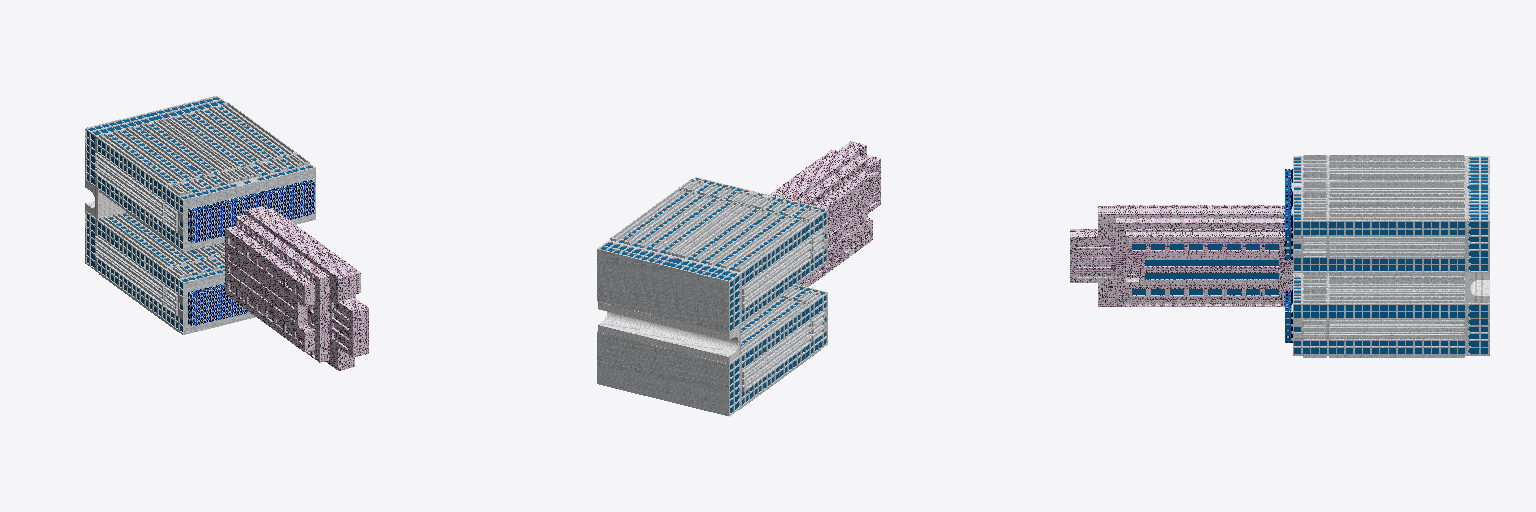
3 views of the same model, side by side, from view 1: azimuth 30°, elevation 25°; view 2: azimuth 150°, elevation 25°; view 3: azimuth 270°, elevation 25° (orthographic).
Parts seen in each view (by area): view 1: Tower_05, Walls_01_Walls_01_W, Walls_01, Rectangle1, Glass05_Gl, Rectangle0, Tower_Gla4, Glass06_Gl, Glass06, Gate; view 2: Walls_01_Walls_01_W, Walls_01, Tower_05, Gate, Glass05_Gl, Glass06, Glass06_Gl, Tower_Gla4; view 3: Tower_05, Walls_01_Walls_01_W, Walls_01, Glass07, Glass07_Gl, Tower_Glas, Fins03_F45, Fins03_F52, Glass05_Gl, Gate, Tower_Gla2, Fins03_F28 (+18 smaller).
Part boxes in pixels (x1,y1,x2,y2): Tower_05: (225,206,368,370); Walls_01_Walls_01_W: (85,96,315,251); Walls_01: (85,211,254,334); Rectangle1: (188,180,314,243); Glass05_Gl: (88,98,311,198); Rectangle0: (188,283,249,326); Tower_Gla4: (230,239,301,341); Glass06_Gl: (87,131,182,248); Glass06: (87,214,182,331); Gate: (85,181,125,218); Walls_01_Walls_01_W: (597,177,827,333); Walls_01: (597,285,827,416); Tower_05: (770,141,880,286); Gate: (598,302,740,363); Glass05_Gl: (601,179,824,280); Glass06: (730,296,825,412); Glass06_Gl: (730,213,825,330); Tower_Gla4: (798,184,868,284); Tower_05: (1070,205,1292,306); Walls_01_Walls_01_W: (1293,156,1489,272); Walls_01: (1293,273,1489,355); Glass07: (1294,305,1487,353); Glass07_Gl: (1294,222,1487,270); Tower_Glas: (1132,244,1278,294); Fins03_F45: (1329,201,1464,206); Fins03_F52: (1329,161,1464,166); Glass05_Gl: (1294,158,1487,219); Gate: (1465,273,1489,302); Tower_Gla2: (1125,224,1281,303); Fins03_F28: (1329,252,1464,258).
Size of the model in its own units: 26.04 by 25.41 by 68.94.
Materials: 5 (4 with a texture image).